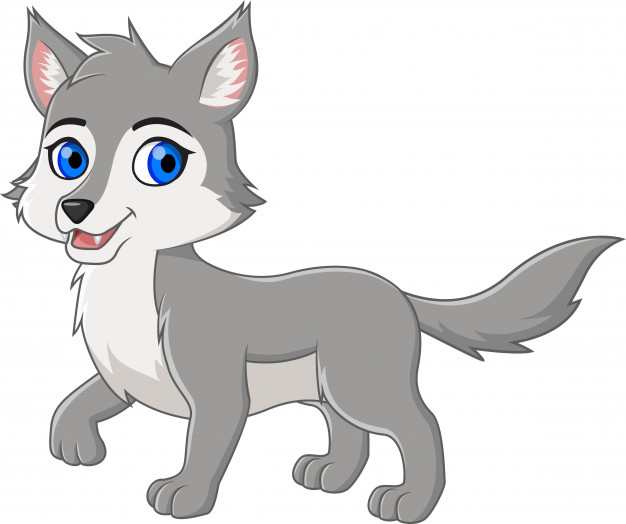Lobo: (5, 1, 605, 519)
